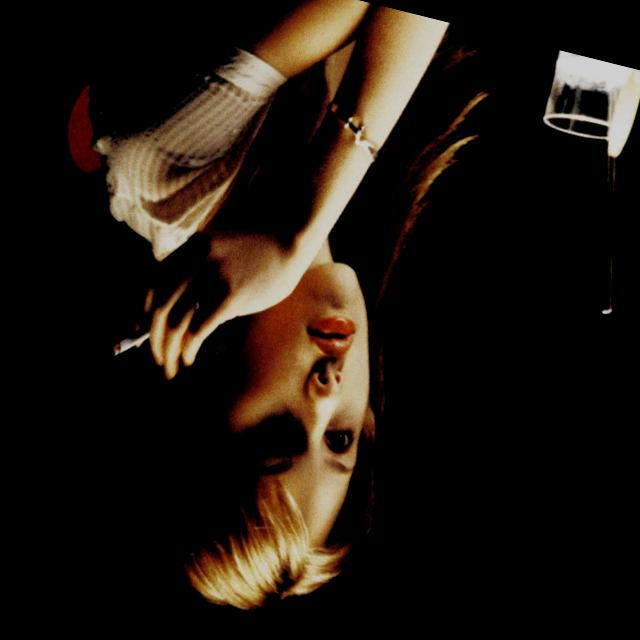smoke: (104, 317, 155, 368)
